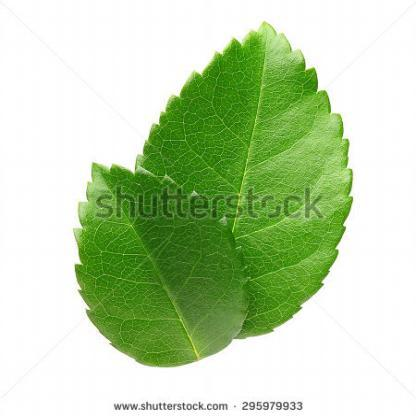Apple leaf: (61, 12, 356, 368)
